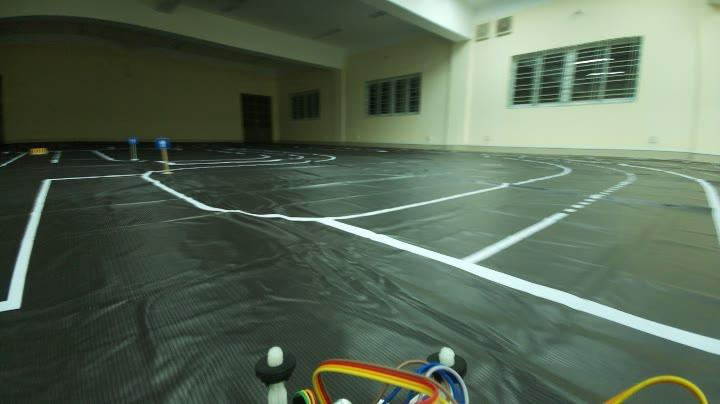onewayroad: (153, 136, 169, 152), (127, 136, 138, 145)
roadblock: (26, 144, 52, 158)
